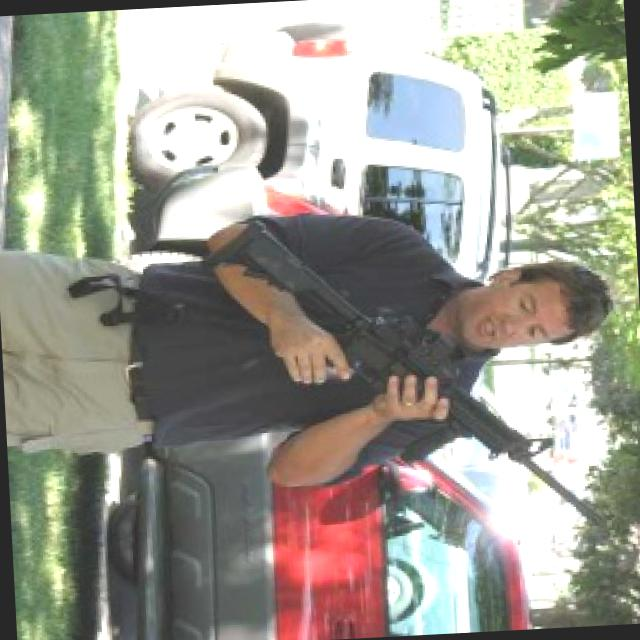long weapon: (165, 183, 622, 569)
